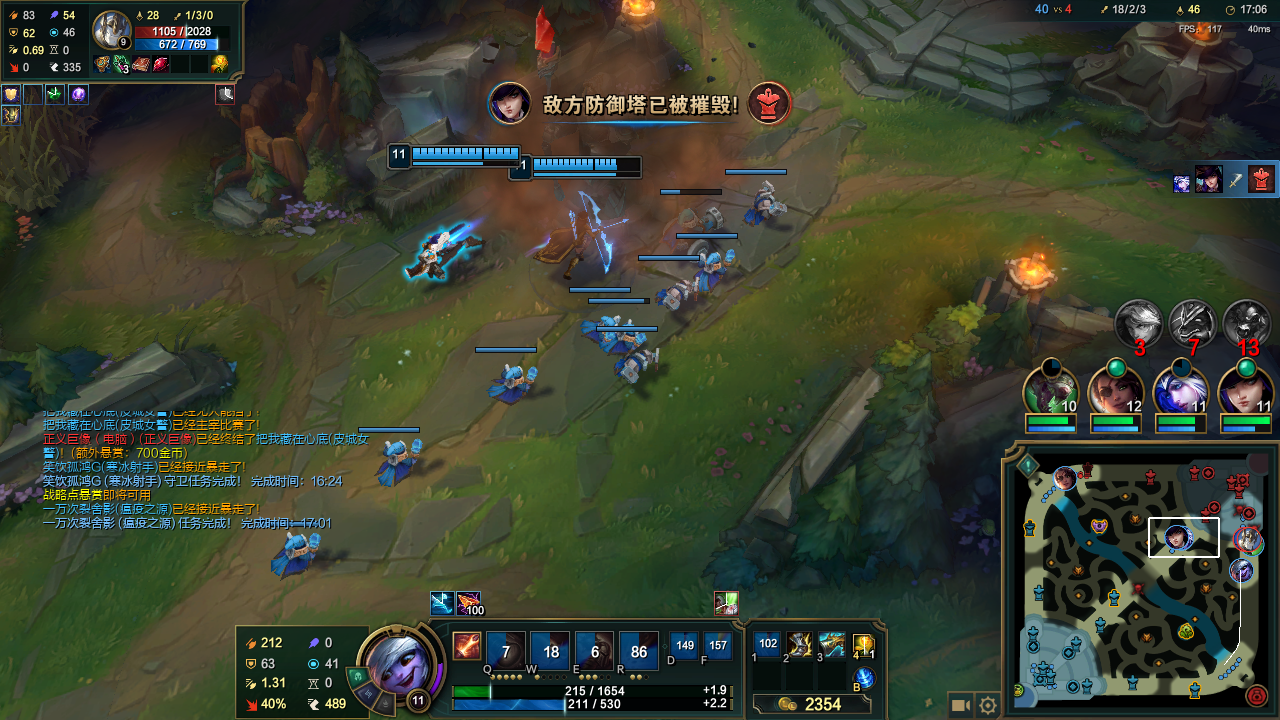WFXB: (368, 435, 433, 497), (661, 201, 727, 260), (482, 358, 563, 405), (271, 532, 335, 578), (742, 176, 789, 235), (606, 344, 670, 380), (687, 250, 745, 289), (653, 275, 711, 312), (594, 321, 648, 355), (576, 307, 620, 341)
